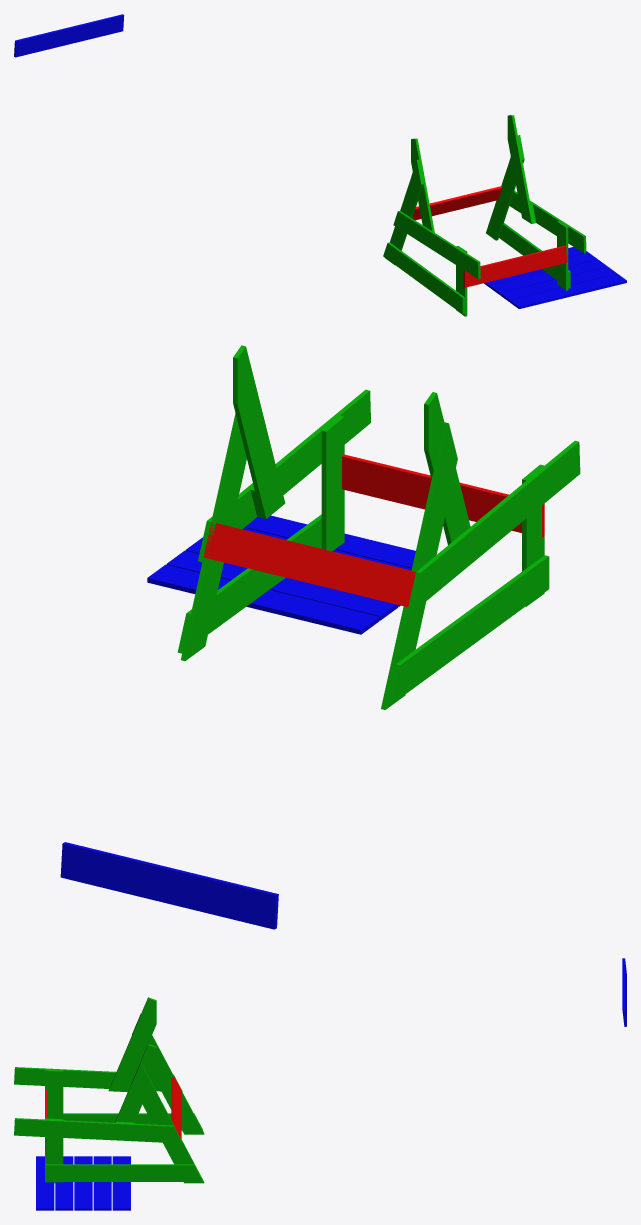
The model's file is result.glb.
The picture shows the model from 3 angles, top to bottom: view 1: azimuth 30°, elevation 25°; view 2: azimuth 150°, elevation 25°; view 3: azimuth 270°, elevation 25°; orthographic projection. The views are drawn at different scales.
Visible parts, largest first — view 1: 184a3dd9-6adc-4ad3-877b-4ff045f17212__Box_9, c4ce0591-cade-4f4a-a77b-5155b1ce1f12__Plane_1, c8fcc65e-ef9d-41fa-8647-e3edd83c8ca0__undefined, b19dacd5-8fe2-45ae-bcfc-59a94b9c0e83__undefined, d9d60843-f2b2-45ee-a22e-ceeb44dc5864__Box, 005bfc9a-b13b-4f19-8b18-1c67519adeec__undefined, bdea5540-6d74-4a5c-9dda-bf1060b7d0f3__Plane_2, 89989725-1dbb-41f2-8998-f33a94e4a075__Box_1, e7d85893-e4b3-4d4c-be14-f5af9880b5f9__undefined, 8cefc58f-42d4-4ada-bbc6-a2fc3dcc6931__undefined, f3cbfde9-9fcf-4877-b7b5-02a2205ff72a__Box_2, 62abef61-8910-4ed4-8bcc-673fda33e6c7__undefined (+4 smaller); view 2: 184a3dd9-6adc-4ad3-877b-4ff045f17212__Box_9, bdea5540-6d74-4a5c-9dda-bf1060b7d0f3__Plane_2, c8fcc65e-ef9d-41fa-8647-e3edd83c8ca0__undefined, b19dacd5-8fe2-45ae-bcfc-59a94b9c0e83__undefined, 62abef61-8910-4ed4-8bcc-673fda33e6c7__undefined (×2), c4ce0591-cade-4f4a-a77b-5155b1ce1f12__Plane_1, 8cefc58f-42d4-4ada-bbc6-a2fc3dcc6931__undefined, 005bfc9a-b13b-4f19-8b18-1c67519adeec__undefined, b2074245-8516-408c-bb09-d8fe2b56b8a9__Box_4, e7d85893-e4b3-4d4c-be14-f5af9880b5f9__undefined, 5e03b674-90f5-4d26-b75e-800e7de88ce2__Plane, b56b1ebe-985b-4af7-a9ca-e8228575a298__undefined (+4 smaller); view 3: e7d85893-e4b3-4d4c-be14-f5af9880b5f9__undefined, 5e03b674-90f5-4d26-b75e-800e7de88ce2__Plane, 62abef61-8910-4ed4-8bcc-673fda33e6c7__undefined (×2), 85be29d5-0ed7-4f2a-a1e8-4a98950228f6__undefined, c8fcc65e-ef9d-41fa-8647-e3edd83c8ca0__undefined, 8cefc58f-42d4-4ada-bbc6-a2fc3dcc6931__undefined, 005bfc9a-b13b-4f19-8b18-1c67519adeec__undefined, e8820bee-8f3f-4ec1-9573-7b8eb7bdcdb1__undefined, d9d60843-f2b2-45ee-a22e-ceeb44dc5864__Box, f3cbfde9-9fcf-4877-b7b5-02a2205ff72a__Box_2, 295f2239-e4f8-42bf-8bc8-11b7b2ec7b8a__Box_3, b2074245-8516-408c-bb09-d8fe2b56b8a9__Box_4 (+4 smaller).
Part boxes in pixels (x1,y1,x2,y2): 184a3dd9-6adc-4ad3-877b-4ff045f17212__Box_9: [14, 14, 124, 57]; c4ce0591-cade-4f4a-a77b-5155b1ce1f12__Plane_1: [463, 245, 568, 287]; c8fcc65e-ef9d-41fa-8647-e3edd83c8ca0__undefined: [393, 211, 480, 279]; b19dacd5-8fe2-45ae-bcfc-59a94b9c0e83__undefined: [383, 242, 464, 314]; d9d60843-f2b2-45ee-a22e-ceeb44dc5864__Box: [510, 274, 626, 308]; 005bfc9a-b13b-4f19-8b18-1c67519adeec__undefined: [507, 115, 533, 223]; bdea5540-6d74-4a5c-9dda-bf1060b7d0f3__Plane_2: [412, 186, 502, 220]; 89989725-1dbb-41f2-8998-f33a94e4a075__Box_1: [500, 267, 617, 301]; e7d85893-e4b3-4d4c-be14-f5af9880b5f9__undefined: [509, 190, 586, 253]; 8cefc58f-42d4-4ada-bbc6-a2fc3dcc6931__undefined: [384, 159, 423, 264]; f3cbfde9-9fcf-4877-b7b5-02a2205ff72a__Box_2: [490, 259, 607, 294]; 62abef61-8910-4ed4-8bcc-673fda33e6c7__undefined: [486, 135, 524, 240]; 184a3dd9-6adc-4ad3-877b-4ff045f17212__Box_9: [60, 842, 278, 929]; bdea5540-6d74-4a5c-9dda-bf1060b7d0f3__Plane_2: [203, 522, 415, 607]; c8fcc65e-ef9d-41fa-8647-e3edd83c8ca0__undefined: [407, 440, 580, 613]; b19dacd5-8fe2-45ae-bcfc-59a94b9c0e83__undefined: [387, 555, 549, 704]; 62abef61-8910-4ed4-8bcc-673fda33e6c7__undefined (×2): [181, 413, 246, 660]; c4ce0591-cade-4f4a-a77b-5155b1ce1f12__Plane_1: [342, 454, 544, 537]; 8cefc58f-42d4-4ada-bbc6-a2fc3dcc6931__undefined: [381, 422, 457, 709]; 005bfc9a-b13b-4f19-8b18-1c67519adeec__undefined: [233, 345, 285, 518]; b2074245-8516-408c-bb09-d8fe2b56b8a9__Box_4: [147, 564, 379, 634]; e7d85893-e4b3-4d4c-be14-f5af9880b5f9__undefined: [198, 389, 370, 562]; 5e03b674-90f5-4d26-b75e-800e7de88ce2__Plane: [177, 514, 321, 653]; b56b1ebe-985b-4af7-a9ca-e8228575a298__undefined: [321, 415, 344, 550]; e7d85893-e4b3-4d4c-be14-f5af9880b5f9__undefined: [14, 1118, 182, 1143]; 5e03b674-90f5-4d26-b75e-800e7de88ce2__Plane: [45, 1164, 202, 1181]; 62abef61-8910-4ed4-8bcc-673fda33e6c7__undefined (×2): [132, 1062, 204, 1183]; 85be29d5-0ed7-4f2a-a1e8-4a98950228f6__undefined: [108, 997, 156, 1091]; c8fcc65e-ef9d-41fa-8647-e3edd83c8ca0__undefined: [14, 1067, 182, 1091]; 8cefc58f-42d4-4ada-bbc6-a2fc3dcc6931__undefined: [132, 1013, 204, 1134]; 005bfc9a-b13b-4f19-8b18-1c67519adeec__undefined: [115, 1044, 156, 1122]; e8820bee-8f3f-4ec1-9573-7b8eb7bdcdb1__undefined: [45, 1069, 63, 1119]; d9d60843-f2b2-45ee-a22e-ceeb44dc5864__Box: [36, 1156, 54, 1210]; f3cbfde9-9fcf-4877-b7b5-02a2205ff72a__Box_2: [74, 1156, 92, 1210]; 295f2239-e4f8-42bf-8bc8-11b7b2ec7b8a__Box_3: [93, 1156, 111, 1210]; b2074245-8516-408c-bb09-d8fe2b56b8a9__Box_4: [112, 1156, 130, 1210].
Bounding box in the file's own units: 1784 × 758 × 3040.
